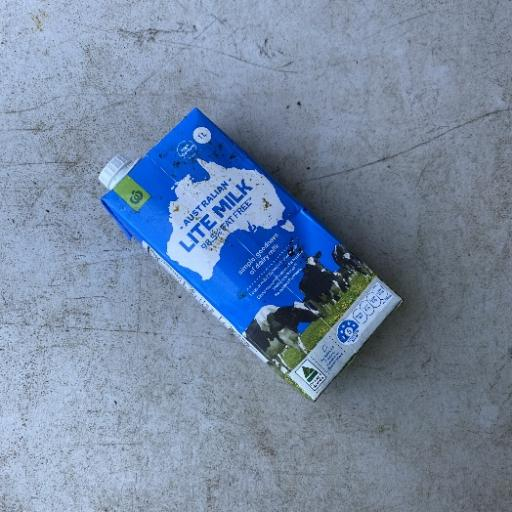Cardboard: (96, 106, 404, 404)
